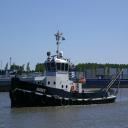tugboat: (9, 24, 126, 113)
